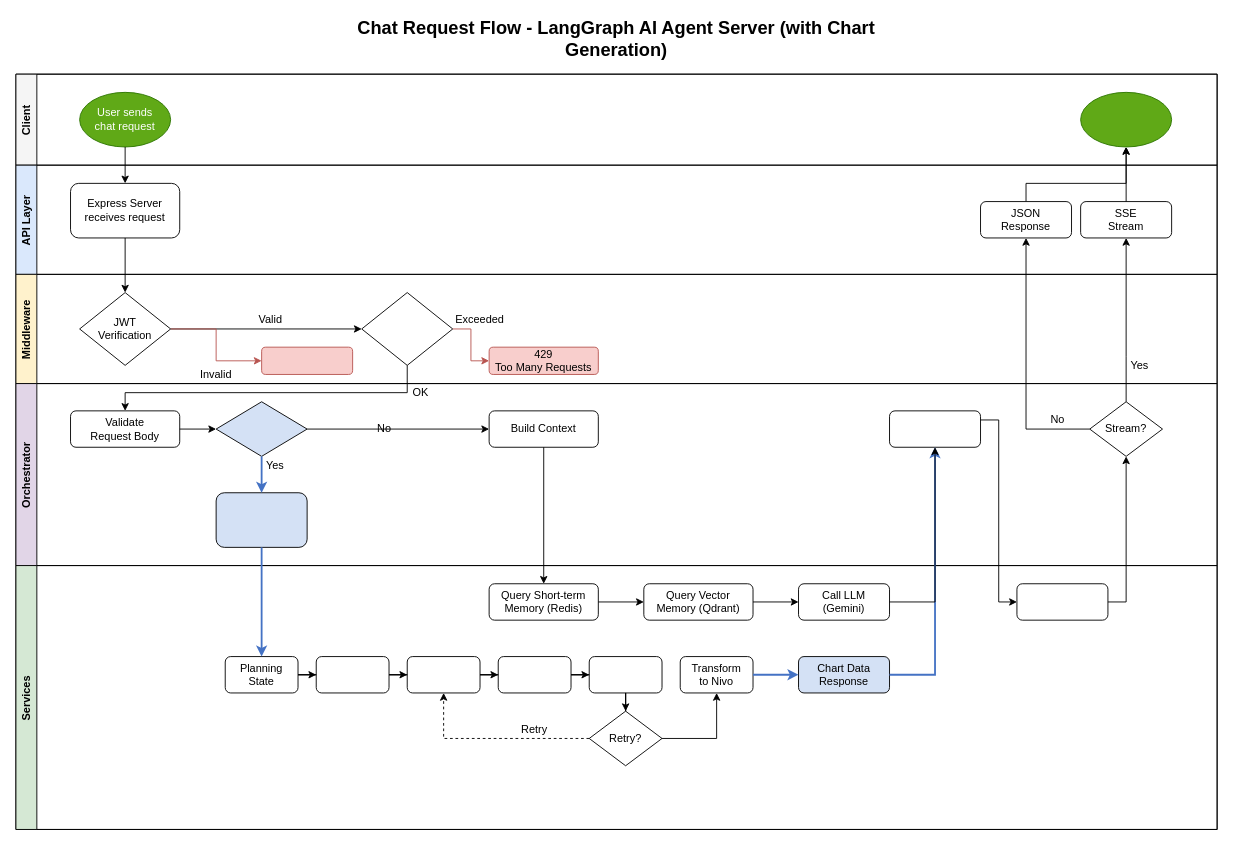
Some shapes in this 1233 by 845 pixel diagram are drawn without their labels. Each missing label, with the centre of its shape:
"401 Unauthorized" belongs at point (307, 360).
"Chart Request?" belongs at point (261, 428).
"Execute Query" belongs at point (534, 674).
"Filter Response" belongs at point (935, 428).
"Query Generation" belongs at point (443, 674).
"Rate Limit Check" belongs at point (407, 328).
"Response to User" belongs at point (1126, 119).
"Run Chart Generation" belongs at point (261, 519).
"Schema Analysis" belongs at point (352, 674).
"Store in Memory" belongs at point (1062, 601).
"Validate Results" belongs at point (625, 674).
